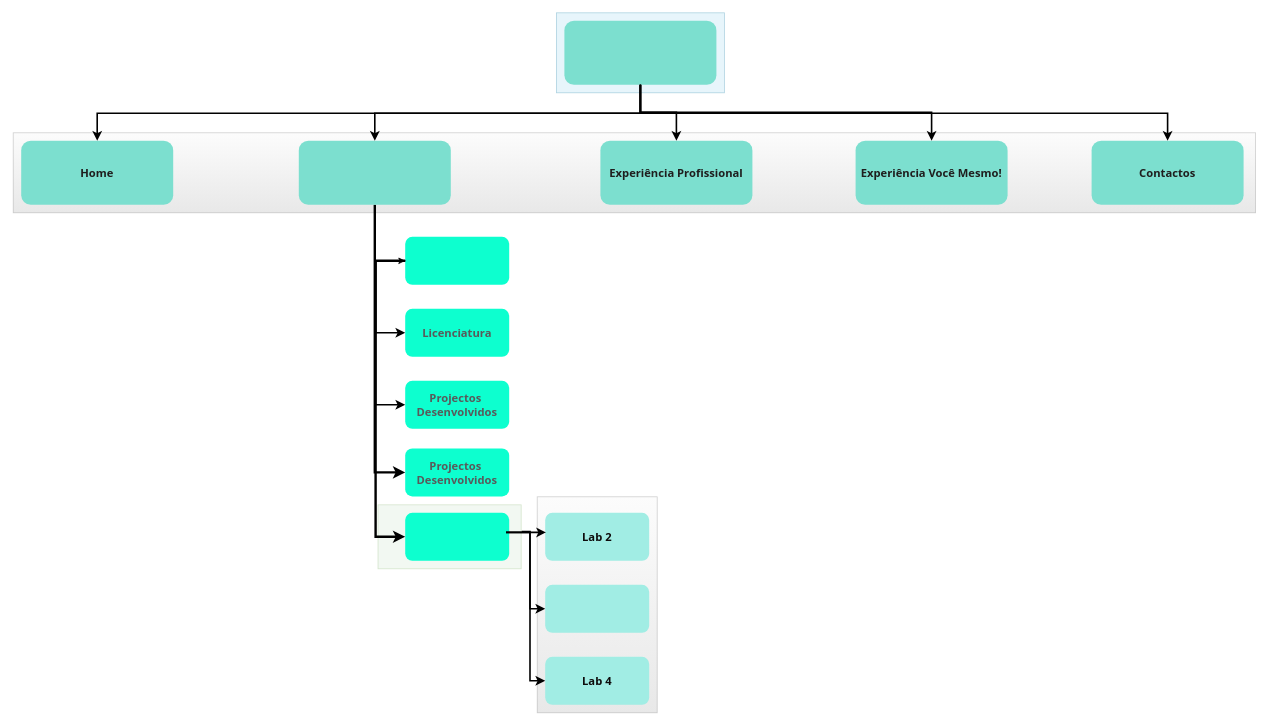
The diagram is 1269 pixels wide and 726 high, and some of its shapes have lost their labels. Here are the shapes that lost their labels. From the top down, the centre of each, then its label:
(640,52): Inicio
(374,172): Educação
(457,260): Percurso Académico
(457,536): Laboratórios Realizados
(597,608): Lab 3
